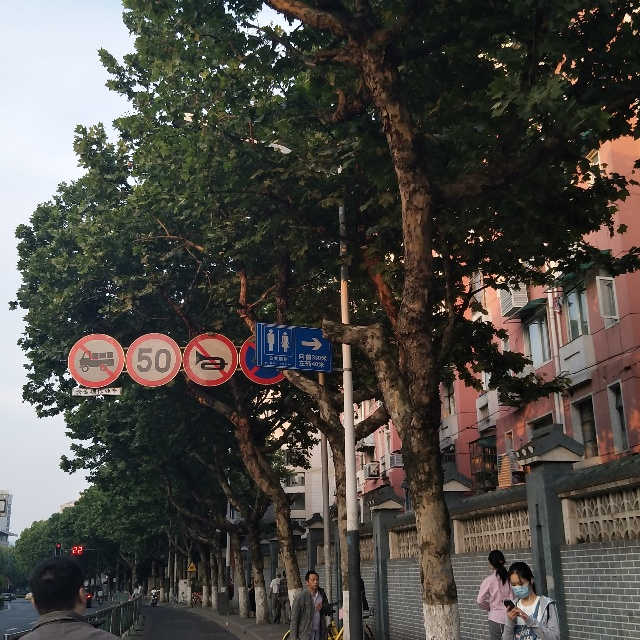nohonk: (187, 333, 226, 384)
